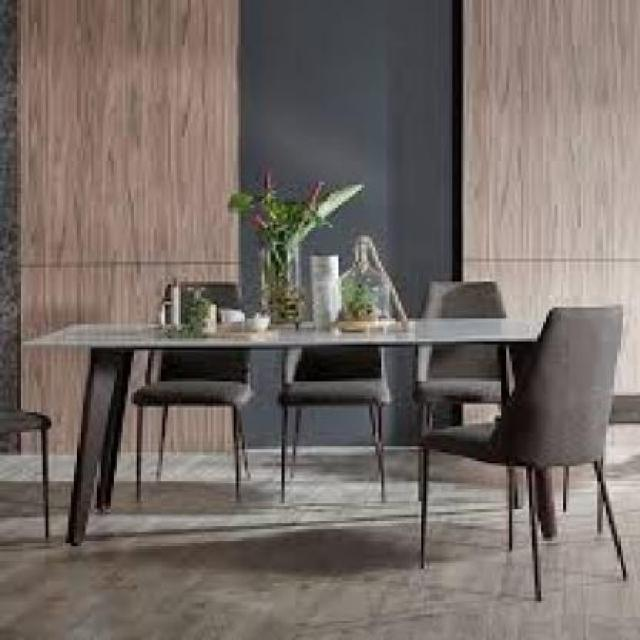tables: (22, 318, 543, 548)
